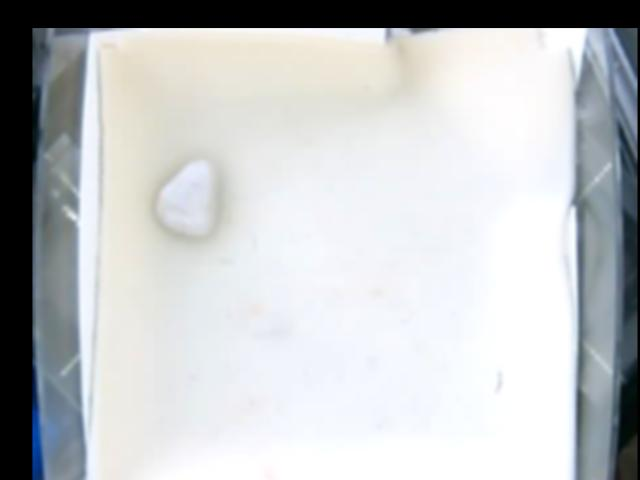Pebble: (150, 160, 218, 237)
